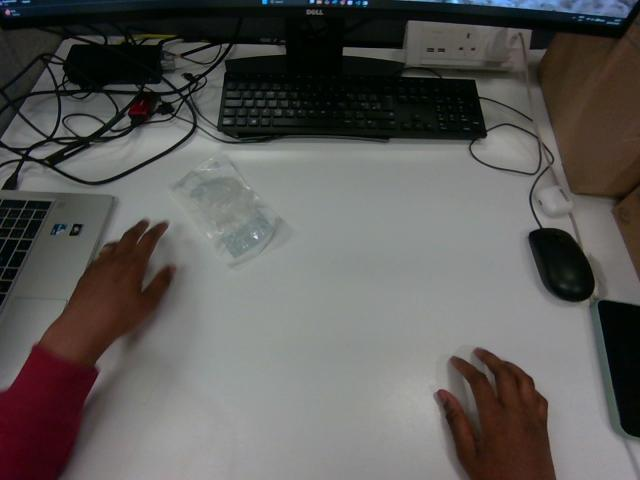gallipot: (170, 156, 279, 265)
